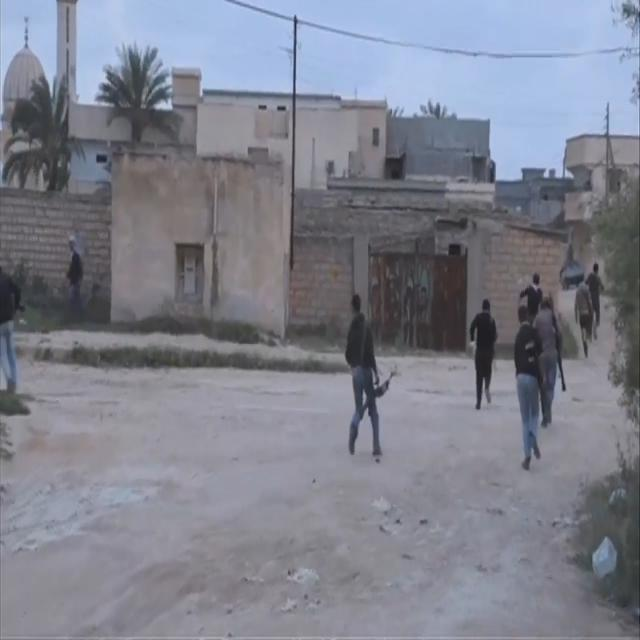long weapon: (522, 318, 558, 421), (351, 356, 396, 434), (545, 290, 577, 395)
